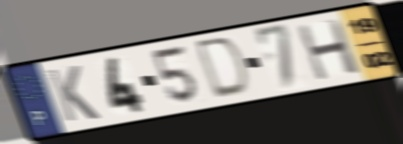4: (107, 55, 146, 116)
5: (147, 45, 201, 106)
7: (251, 21, 298, 95)
D: (194, 35, 253, 102)
H: (294, 17, 364, 83)
K: (43, 63, 103, 124)
